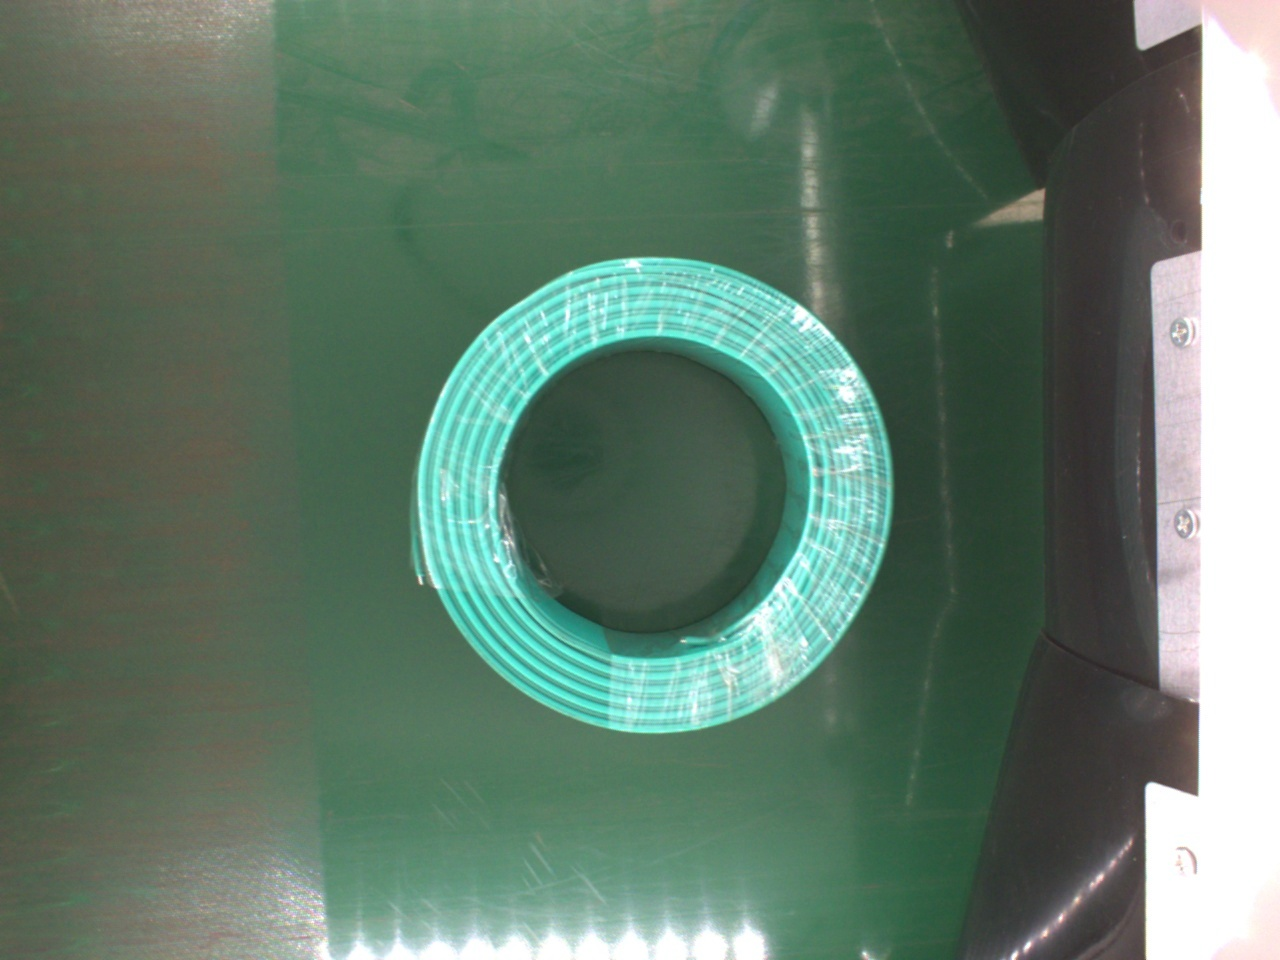green: (418, 258, 896, 739)
